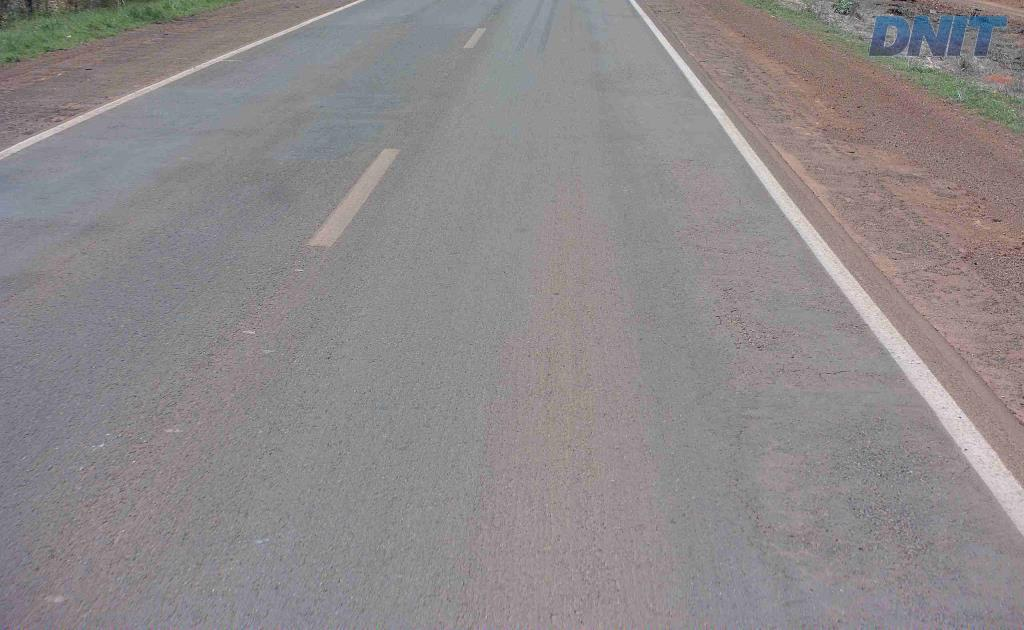crack: (828, 434, 937, 560), (729, 307, 779, 352), (838, 417, 886, 444)
